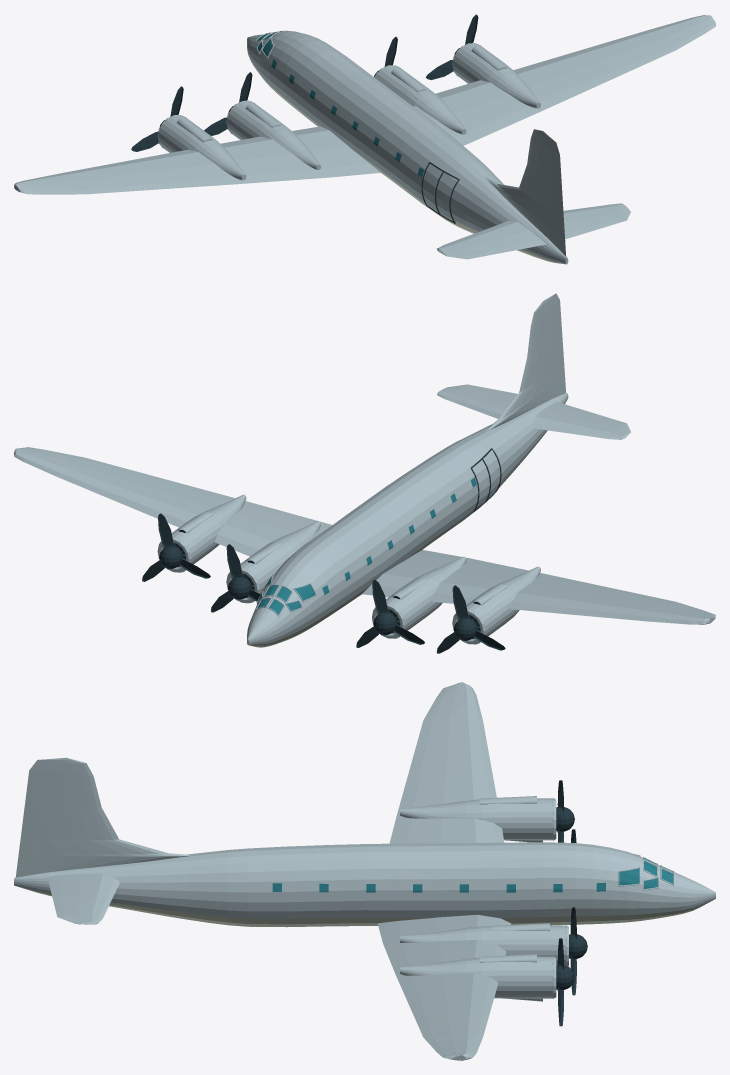
File: archive-c54g.glb
3 renders of one model, top to bottom at view 1: azimuth 30°, elevation 25°; view 2: azimuth 150°, elevation 25°; view 3: azimuth 270°, elevation 25°, orthographic. The views are drawn at different scales.
Visible parts, largest first — view 1: archive-c54g-fuselage-geometry, archive-c54g-transport_main_wing-geometry, archive-c54g-transport_main_wing.002-geometry, archive-c54g-transport_fin-geometry, archive-c54g-radial_engine_3-geometry, archive-c54g-radial_engine_0-geometry, archive-c54g-transport_tailplane-geometry, archive-c54g-radial_engine_1-geometry, archive-c54g-radial_engine_2-geometry, archive-c54g-transport_tailplane.002-geometry, archive-c54g-transport_glazing-geometry, archive-c54g-transport_propeller_3-geometry (+2 smaller); view 2: archive-c54g-fuselage-geometry, archive-c54g-transport_main_wing.002-geometry, archive-c54g-transport_main_wing-geometry, archive-c54g-transport_fin-geometry, archive-c54g-radial_engine_0-geometry, archive-c54g-radial_engine_3-geometry, archive-c54g-radial_engine_1-geometry, archive-c54g-transport_tailplane-geometry, archive-c54g-radial_engine_2-geometry, archive-c54g-transport_tailplane.002-geometry, archive-c54g-transport_glazing-geometry, archive-c54g-transport_propeller_0-geometry (+3 smaller); view 3: archive-c54g-fuselage-geometry, archive-c54g-transport_main_wing-geometry, archive-c54g-transport_main_wing.002-geometry, archive-c54g-transport_fin-geometry, archive-c54g-radial_engine_1-geometry, archive-c54g-radial_engine_3-geometry, archive-c54g-radial_engine_2-geometry, archive-c54g-transport_tailplane.002-geometry, archive-c54g-transport_glazing-geometry, archive-c54g-transport_propeller_3-geometry, archive-c54g-transport_propeller_2-geometry, archive-c54g-transport_propeller_1-geometry.
Part boxes in pixels (x1,y1,x2,y2): archive-c54g-fuselage-geometry: [247, 31, 568, 264]; archive-c54g-transport_main_wing-geometry: [14, 126, 380, 194]; archive-c54g-transport_main_wing.002-geometry: [413, 15, 715, 145]; archive-c54g-transport_fin-geometry: [485, 129, 565, 256]; archive-c54g-radial_engine_3-geometry: [452, 43, 540, 108]; archive-c54g-radial_engine_0-geometry: [226, 100, 320, 169]; archive-c54g-transport_tailplane-geometry: [437, 221, 546, 259]; archive-c54g-radial_engine_1-geometry: [157, 115, 246, 180]; archive-c54g-radial_engine_2-geometry: [374, 65, 466, 134]; archive-c54g-transport_tailplane.002-geometry: [563, 203, 630, 239]; archive-c54g-transport_glazing-geometry: [255, 30, 423, 177]; archive-c54g-transport_propeller_3-geometry: [426, 14, 478, 79]; archive-c54g-fuselage-geometry: [247, 393, 568, 647]; archive-c54g-transport_main_wing.002-geometry: [14, 447, 331, 556]; archive-c54g-transport_main_wing-geometry: [362, 550, 715, 624]; archive-c54g-transport_fin-geometry: [485, 293, 565, 431]; archive-c54g-radial_engine_0-geometry: [372, 556, 466, 638]; archive-c54g-radial_engine_3-geometry: [157, 494, 246, 572]; archive-c54g-radial_engine_1-geometry: [452, 566, 540, 644]; archive-c54g-transport_tailplane-geometry: [533, 401, 630, 439]; archive-c54g-radial_engine_2-geometry: [226, 521, 320, 603]; archive-c54g-transport_tailplane.002-geometry: [437, 384, 517, 418]; archive-c54g-transport_glazing-geometry: [255, 477, 476, 616]; archive-c54g-transport_propeller_0-geometry: [356, 579, 424, 647]; archive-c54g-fuselage-geometry: [14, 842, 715, 927]; archive-c54g-transport_main_wing-geometry: [389, 682, 504, 843]; archive-c54g-transport_main_wing.002-geometry: [377, 914, 511, 1060]; archive-c54g-transport_fin-geometry: [15, 757, 193, 877]; archive-c54g-radial_engine_1-geometry: [400, 796, 556, 842]; archive-c54g-radial_engine_3-geometry: [400, 954, 556, 1001]; archive-c54g-radial_engine_2-geometry: [400, 923, 568, 966]; archive-c54g-transport_tailplane.002-geometry: [47, 873, 119, 924]; archive-c54g-transport_glazing-geometry: [272, 854, 674, 892]; archive-c54g-transport_propeller_3-geometry: [556, 938, 574, 1026]; archive-c54g-transport_propeller_2-geometry: [569, 907, 587, 995]; archive-c54g-transport_propeller_1-geometry: [556, 780, 574, 842].
Size of the model in its own units: 7.55 by 1.73 by 6.
